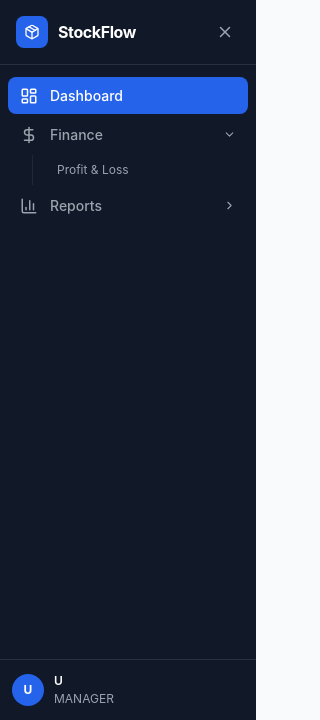
Scenario: Sidebar — permission gating › shows inventory value and profit to a Manager
This screenshot has width=320, height=720.
Step 1. Click the button "Reports" → (128, 206), box [8,187,248,224]
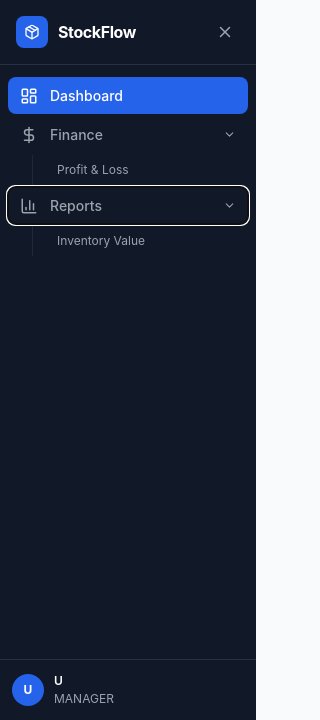
Step 2. Click the button "Reports" → (128, 206), box [8,187,248,224]
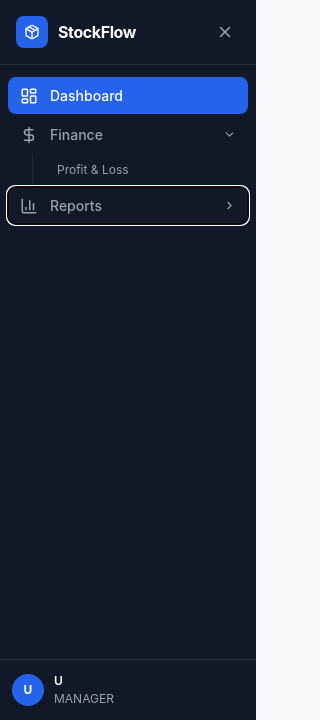
Step 3. Click the button "Reports" → (128, 206), box [8,187,248,224]
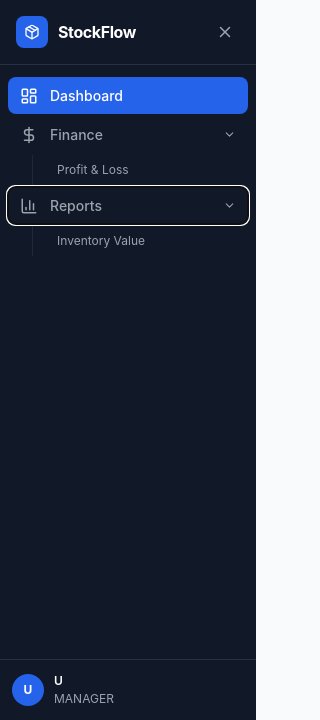
Step 4. Click the button "Finance" → (128, 134), box [8,116,248,153]
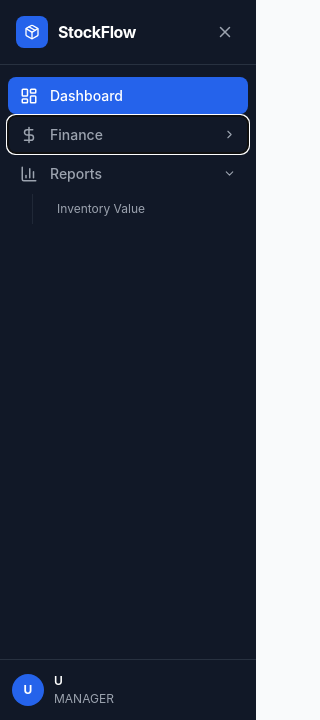
Step 5. Click the button "Finance" → (128, 134), box [8,116,248,153]
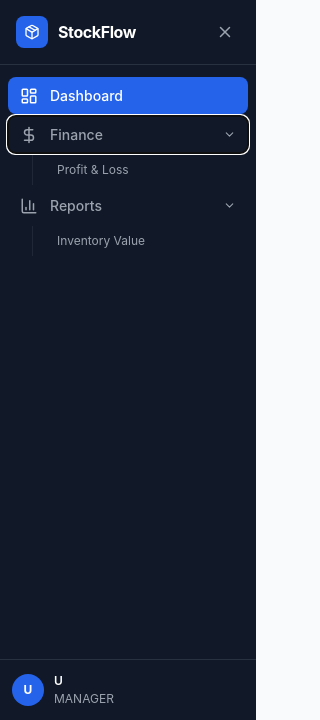
Expected: the link "Inventory Value" is shown, [57,233,145,248]
Expected: the link "Profit & Loss" is shown, [57,162,129,177]
